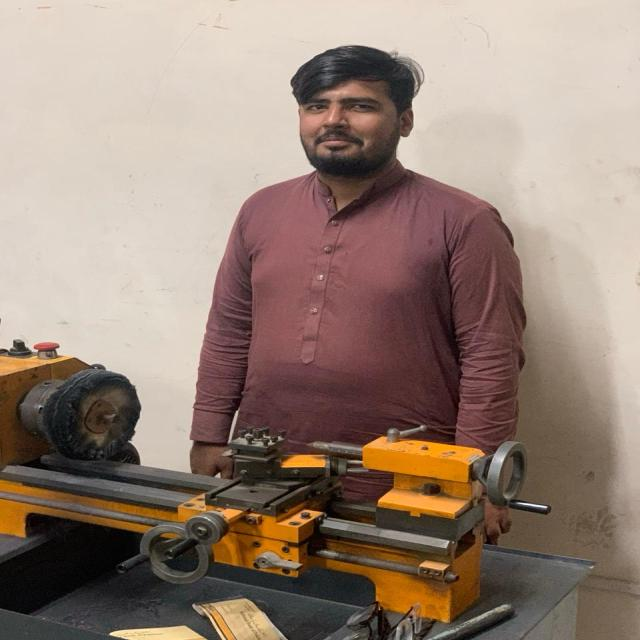dress: (180, 159, 533, 491)
